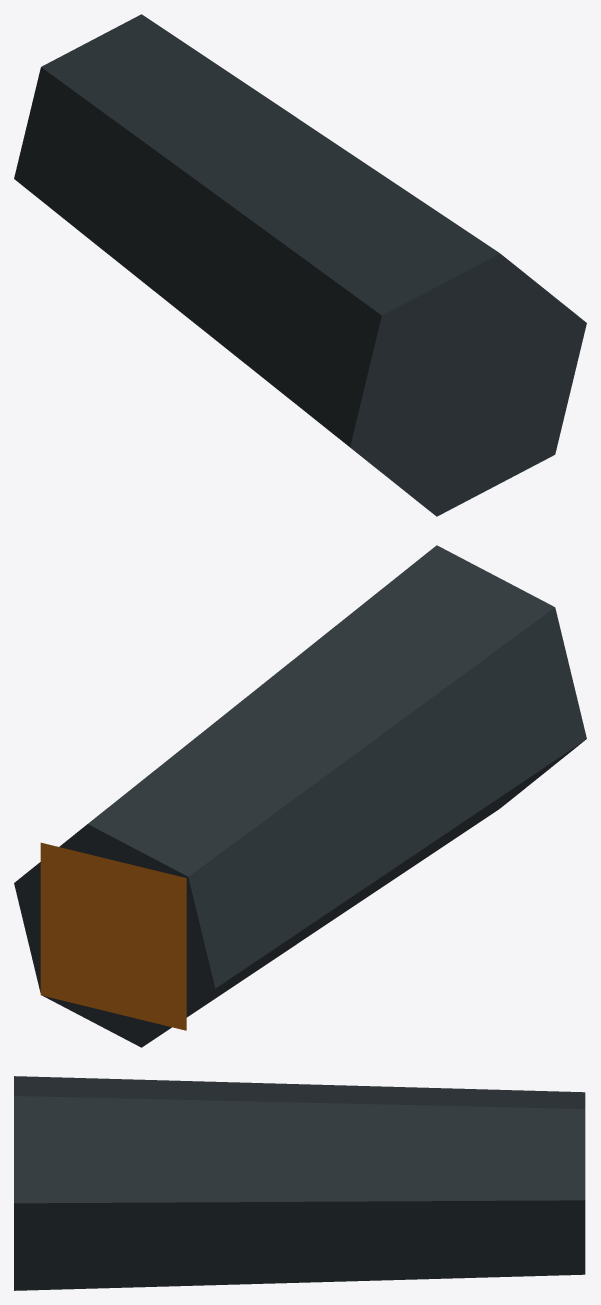
3 views of the same model, one above another, from view 1: azimuth 30°, elevation 25°; view 2: azimuth 150°, elevation 25°; view 3: azimuth 270°, elevation 25° (orthographic). The views are drawn at different scales.
Visible parts, largest first — view 1: mount; view 2: mount; view 3: mount.
Boxes of the visible parts, x1=… form: mount: x1=14, y1=14, x2=586, y2=516; mount: x1=14, y1=545, x2=586, y2=1047; mount: x1=14, y1=1076, x2=585, y2=1290.
Size of the model in its own units: 3.86 by 3.86 by 10.03.
